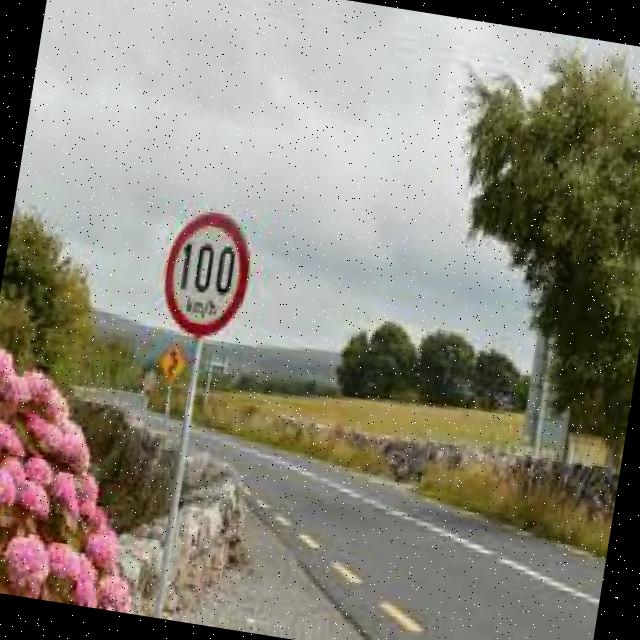Ograniczenie predkosci do 100: (152, 204, 262, 346)
